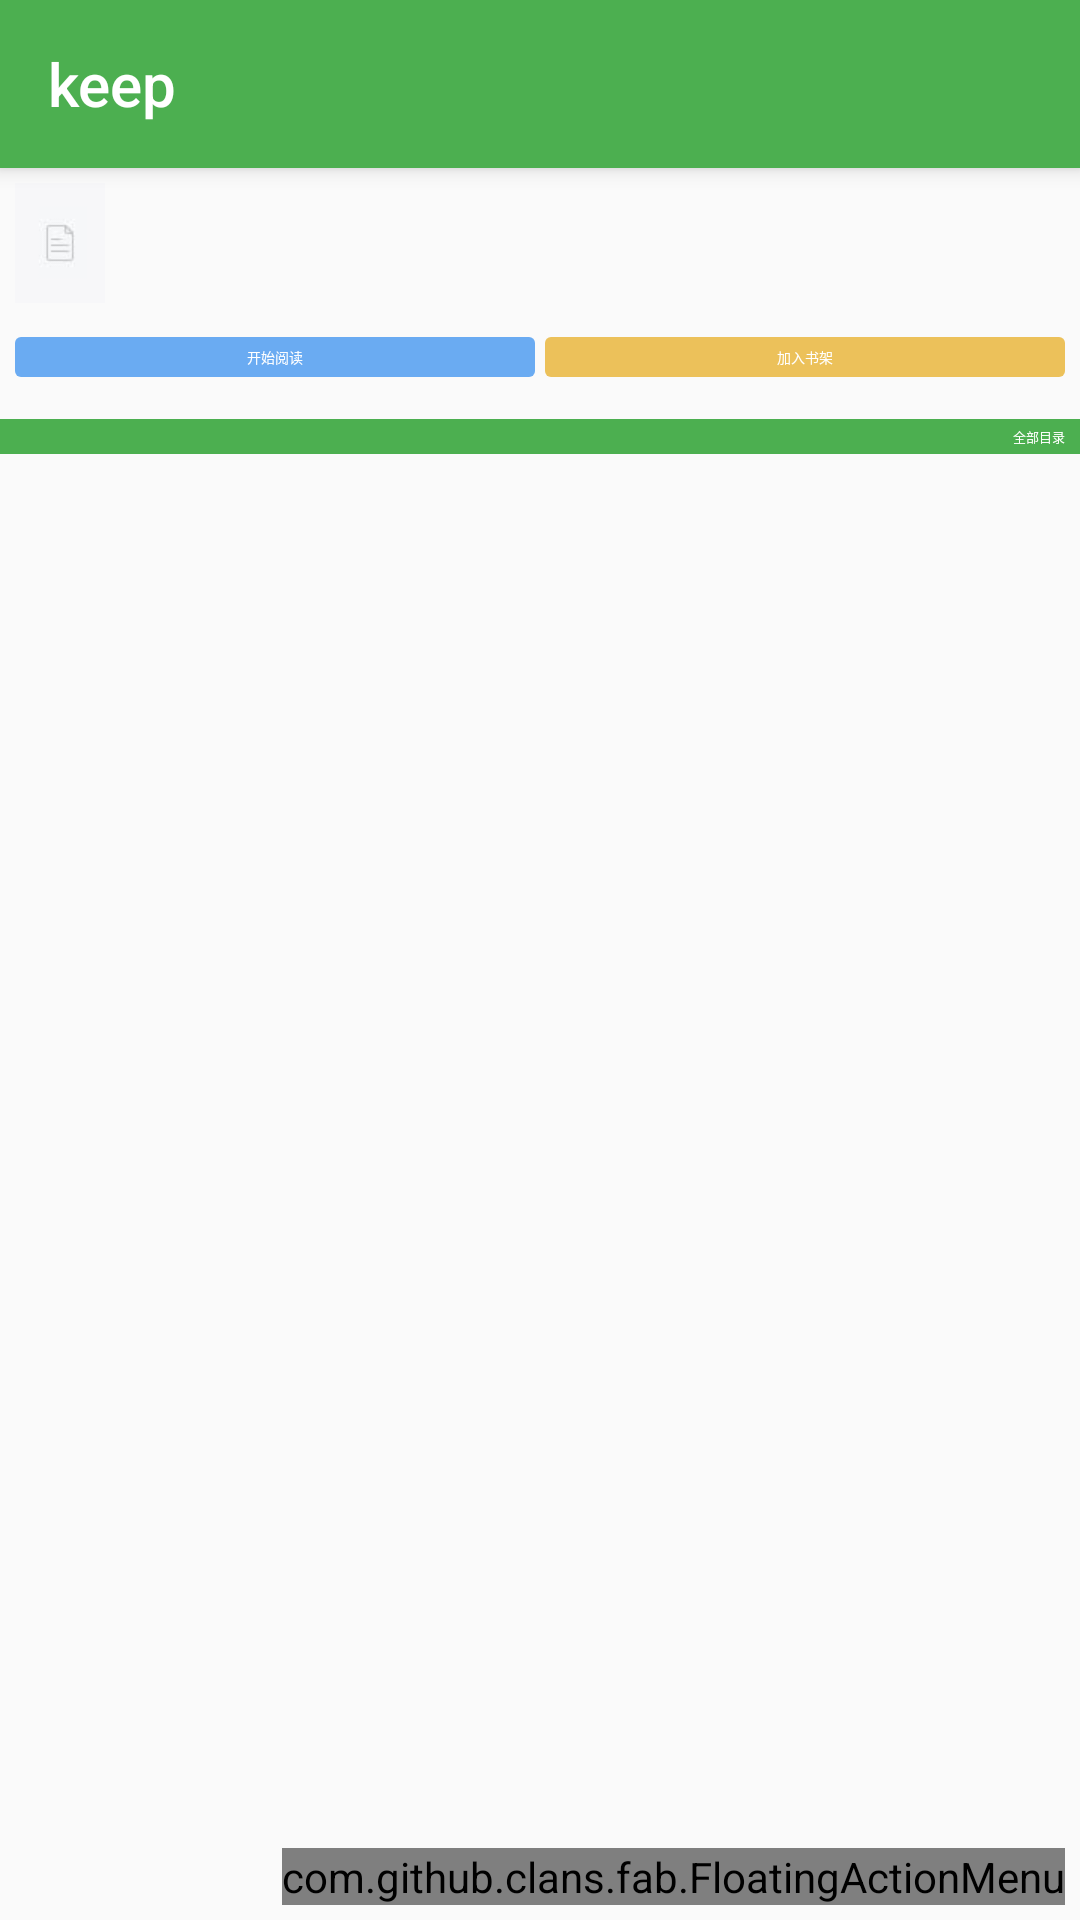

Screen size 1080*1920. Icon name, then its center in pixels as (x=x, y=y):
defaultcover: (x=60, y=243)
